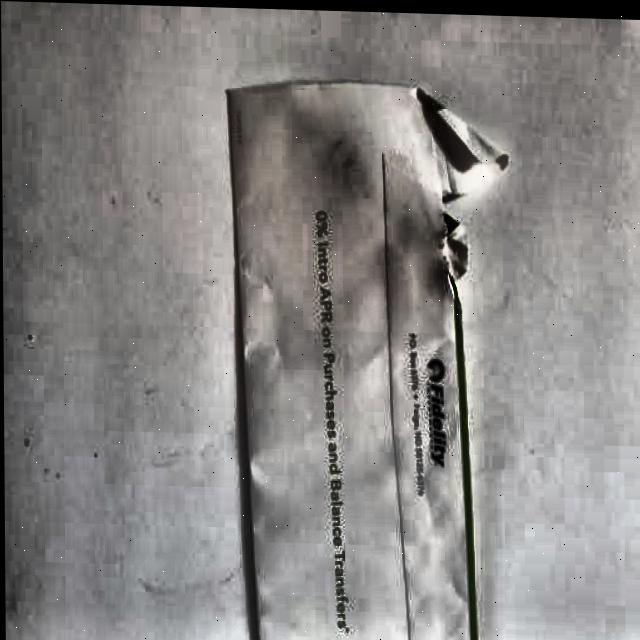paper: (225, 76, 511, 640)
